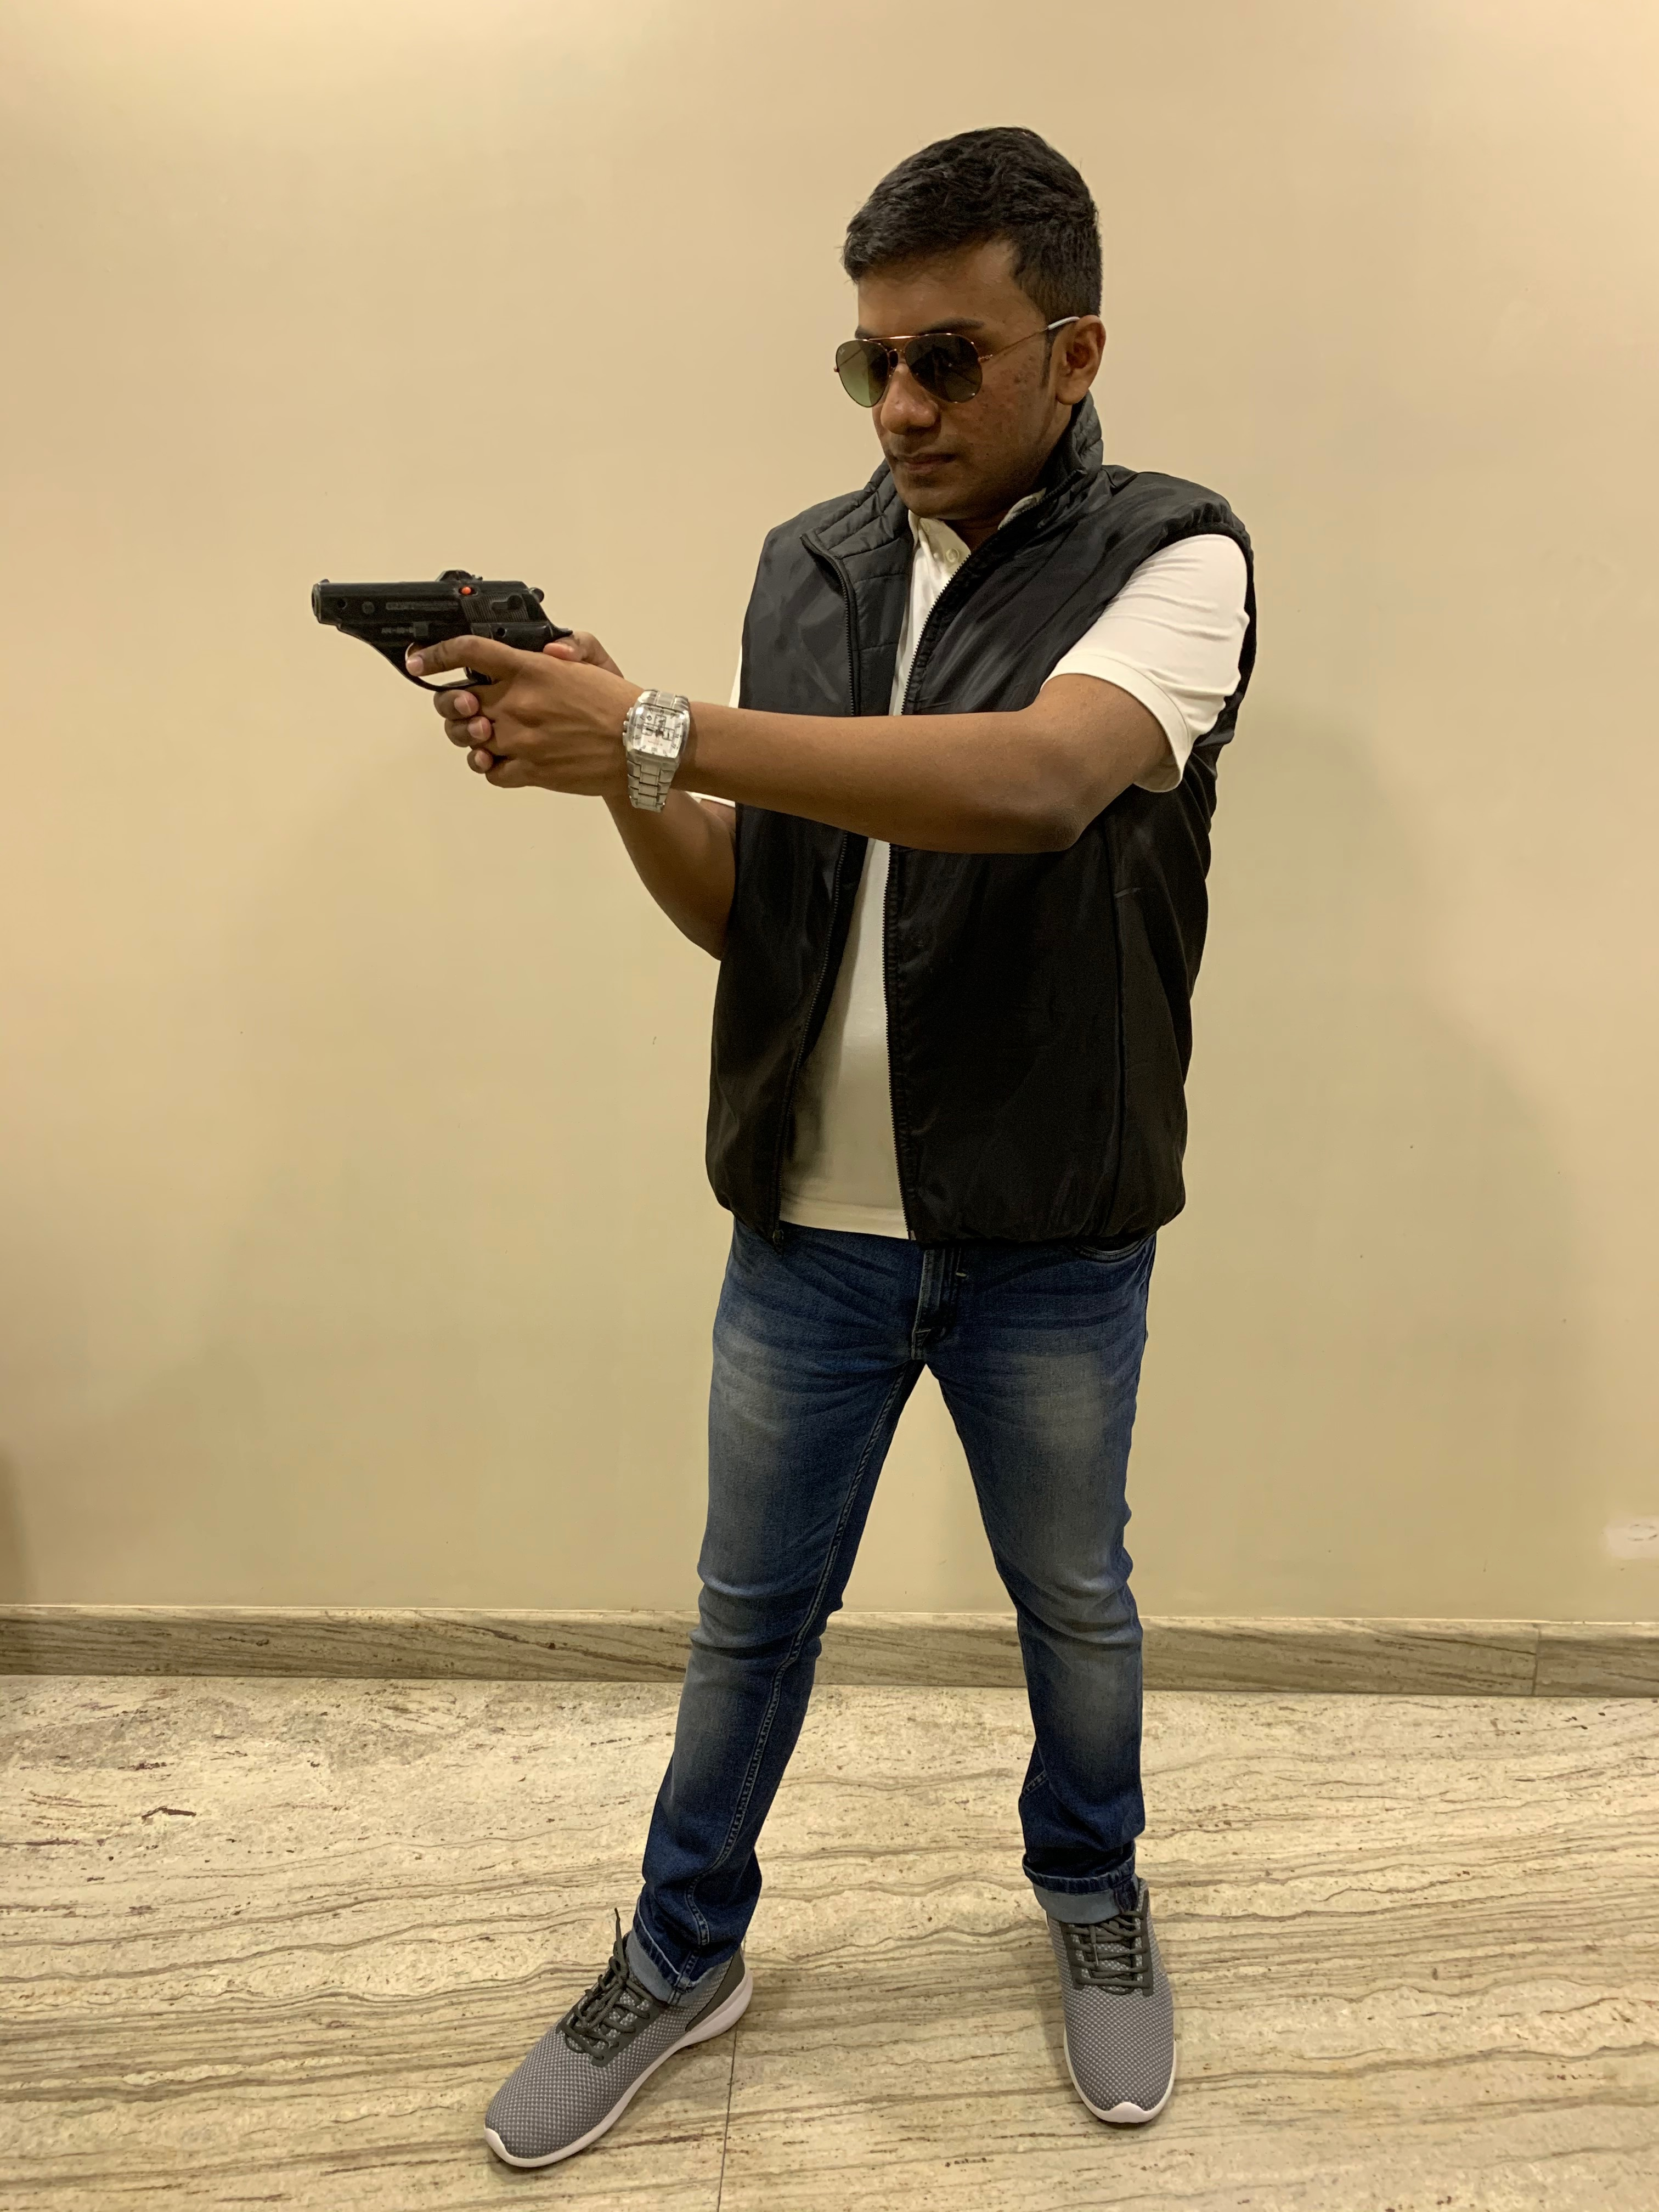gun: (307, 564, 579, 712)
